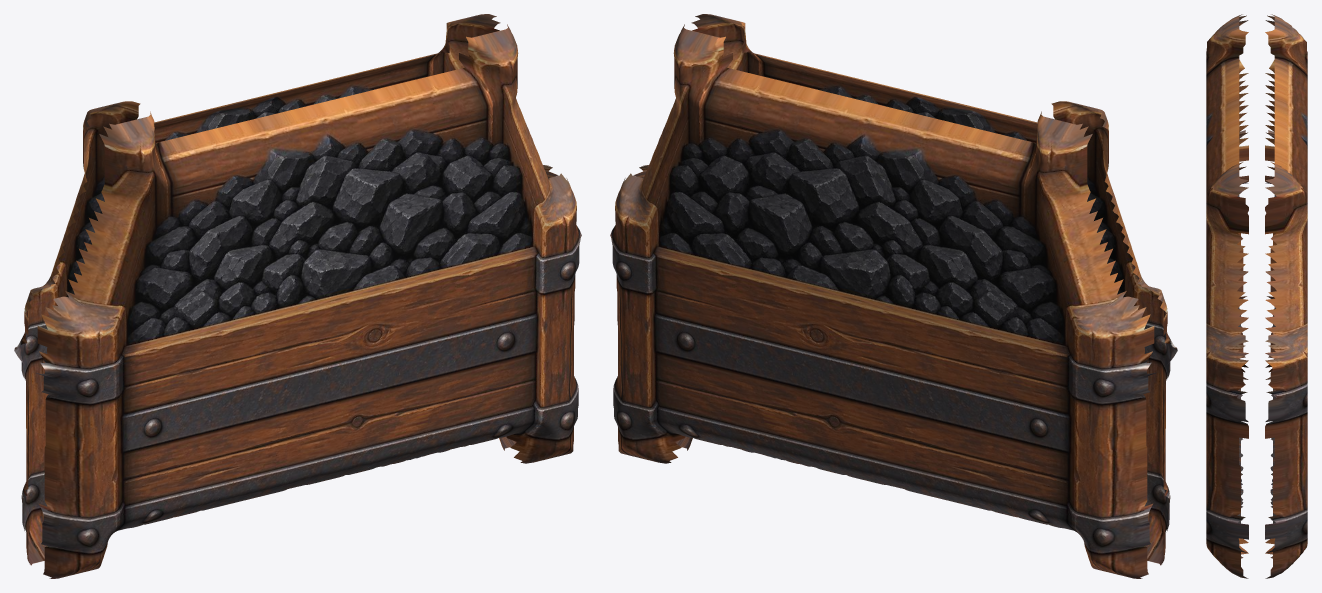
File: v4-forge-scatter-coal-bin.glb
The picture shows the model from 3 angles, left to right: view 1: azimuth 30°, elevation 25°; view 2: azimuth 150°, elevation 25°; view 3: azimuth 270°, elevation 25°; orthographic projection. The views are drawn at different scales.
Visible parts, largest first — view 1: v4-forge-scatter-coal-bin; view 2: v4-forge-scatter-coal-bin; view 3: v4-forge-scatter-coal-bin.
Part boxes in pixels (bbox=[...]): v4-forge-scatter-coal-bin: bbox=[14, 14, 581, 578]; v4-forge-scatter-coal-bin: bbox=[610, 14, 1177, 578]; v4-forge-scatter-coal-bin: bbox=[1206, 14, 1307, 578].
Size of the model in its own units: 1.26 by 0.9764 by 0.24.
1 material, 1 textured.
